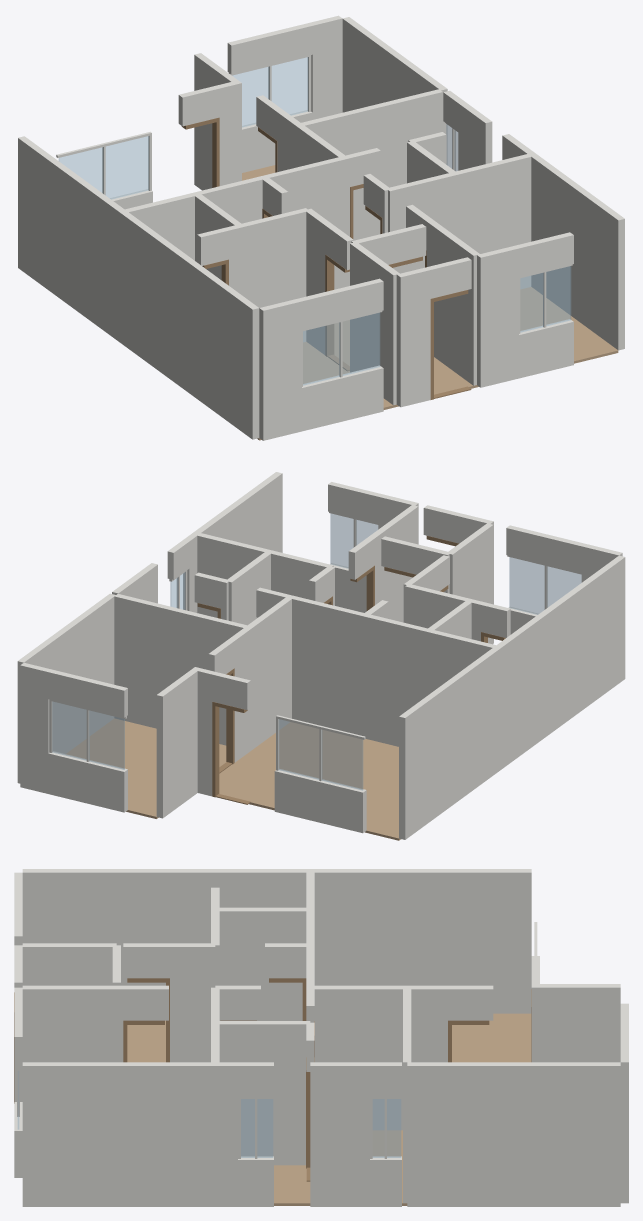
The model's file is high_quality_architectural_7858.glb.
3 views of the same model, one above another, from view 1: azimuth 30°, elevation 25°; view 2: azimuth 150°, elevation 25°; view 3: azimuth 270°, elevation 25° (orthographic). The views are drawn at different scales.
Parts seen in each view (by area): view 1: Wall_6_solid, Wall_21_solid, Wall_20_solid, Wall_15_solid, Wall_19_solid, Wall_31_solid, Wall_25_solid, Wall_23_solid, Wall_16_solid, Wall_14_solid, Wall_24_solid, Wall_17_solid (+39 smaller); view 2: Wall_6_solid, Wall_21_solid, Floor_1_living_room, Wall_15_solid, Wall_2_solid, Wall_14_solid, Wall_10_solid, Wall_12_solid, Wall_31_solid, Wall_9_solid, Floor_2_bedroom, Window_0 (+38 smaller); view 3: Wall_14_solid, Wall_20_solid, Wall_6_solid, Wall_21_solid, Wall_32_solid, Wall_26_solid, Wall_9_solid, Wall_17_solid, Wall_30_solid, Wall_12_solid, Wall_0_solid, Wall_24_solid (+27 smaller).
Boxes of the visible parts, box(x1,y1,x2,y2) form: Wall_6_solid: box(18, 136, 126, 342); Wall_21_solid: box(163, 243, 259, 439); Wall_20_solid: box(530, 154, 624, 350); Wall_15_solid: box(298, 89, 442, 240); Wall_19_solid: box(454, 154, 531, 289); Wall_31_solid: box(120, 211, 169, 374); Wall_25_solid: box(259, 298, 301, 440); Wall_23_solid: box(238, 208, 307, 342); Wall_16_solid: box(477, 245, 518, 387); Wall_14_solid: box(342, 17, 447, 165); Wall_24_solid: box(350, 243, 399, 405); Wall_17_solid: box(430, 222, 479, 385); Wall_6_solid: box(399, 646, 500, 839); Wall_21_solid: box(536, 555, 625, 739); Floor_1_living_room: box(219, 722, 400, 840); Wall_15_solid: box(114, 594, 249, 745); Wall_2_solid: box(289, 595, 367, 735); Wall_14_solid: box(17, 593, 115, 783); Wall_10_solid: box(364, 614, 428, 746); Wall_12_solid: box(156, 667, 200, 818); Wall_31_solid: box(495, 616, 541, 769); Wall_9_solid: box(247, 597, 291, 749); Floor_2_bedroom: box(66, 718, 226, 818); Window_0: box(278, 719, 363, 790); Wall_14_solid: box(407, 1062, 620, 1206); Wall_20_solid: box(22, 1062, 215, 1206); Wall_6_solid: box(310, 869, 531, 1013); Wall_21_solid: box(22, 869, 215, 985); Wall_32_solid: box(219, 1021, 310, 1165); Wall_26_solid: box(310, 1062, 369, 1206); Wall_9_solid: box(310, 985, 407, 1130); Wall_17_solid: box(22, 985, 116, 1062); Wall_30_solid: box(215, 907, 309, 1020); Wall_12_solid: box(531, 984, 620, 1062); Wall_0_solid: box(170, 943, 215, 1062); Wall_24_solid: box(22, 943, 116, 985).
Bounding box in the file's own units: 8.09 × 2.75 × 10.68.
